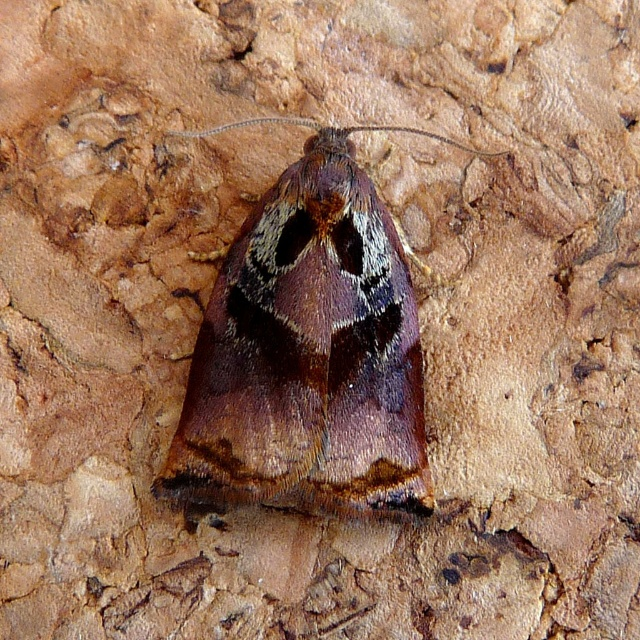Butterfly: (167, 153, 454, 507)
